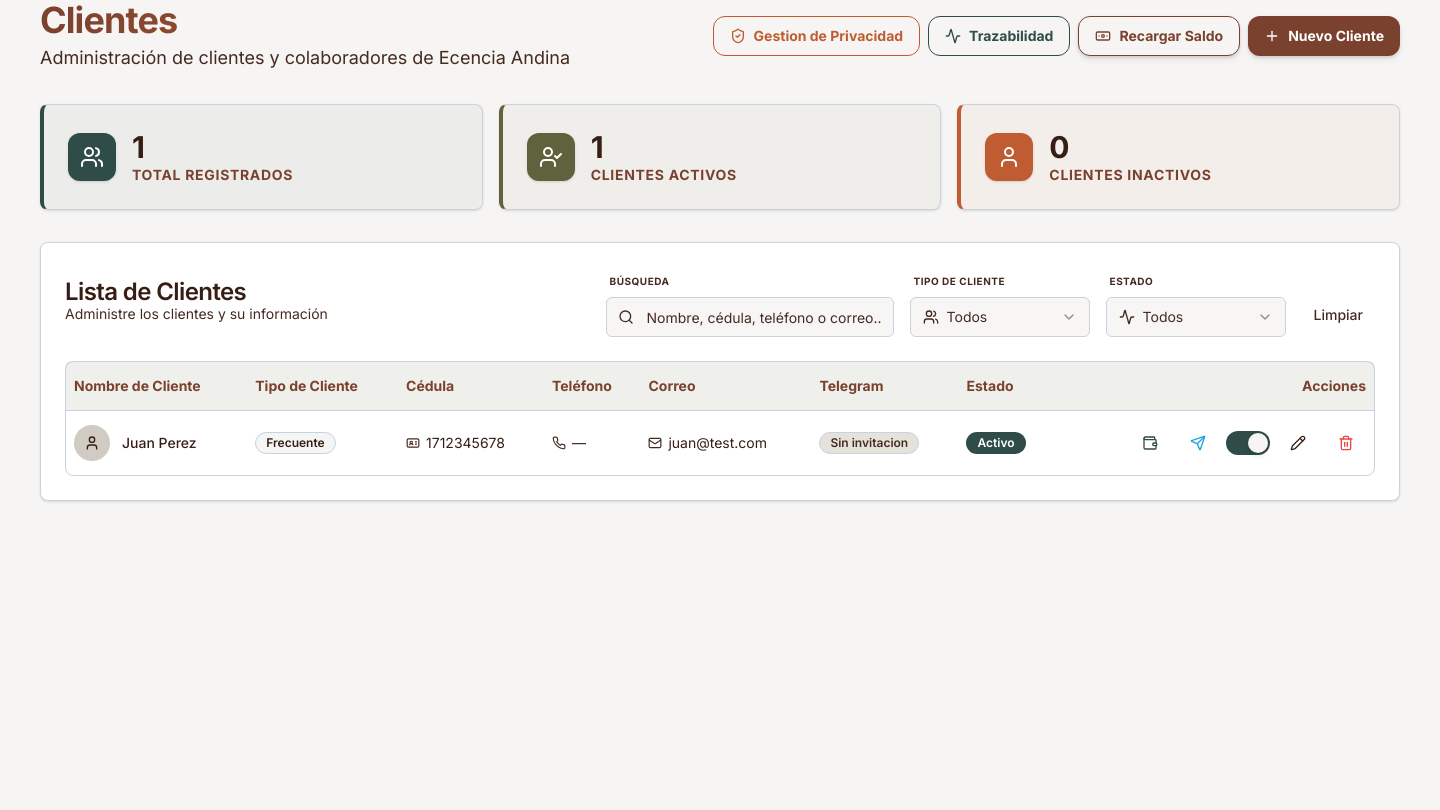
Clientes › permite abrir el dialogo de recarga de saldo
Step 1. Click the button "Recargar Saldo" → (1159, 36), box [1078,16,1240,56]
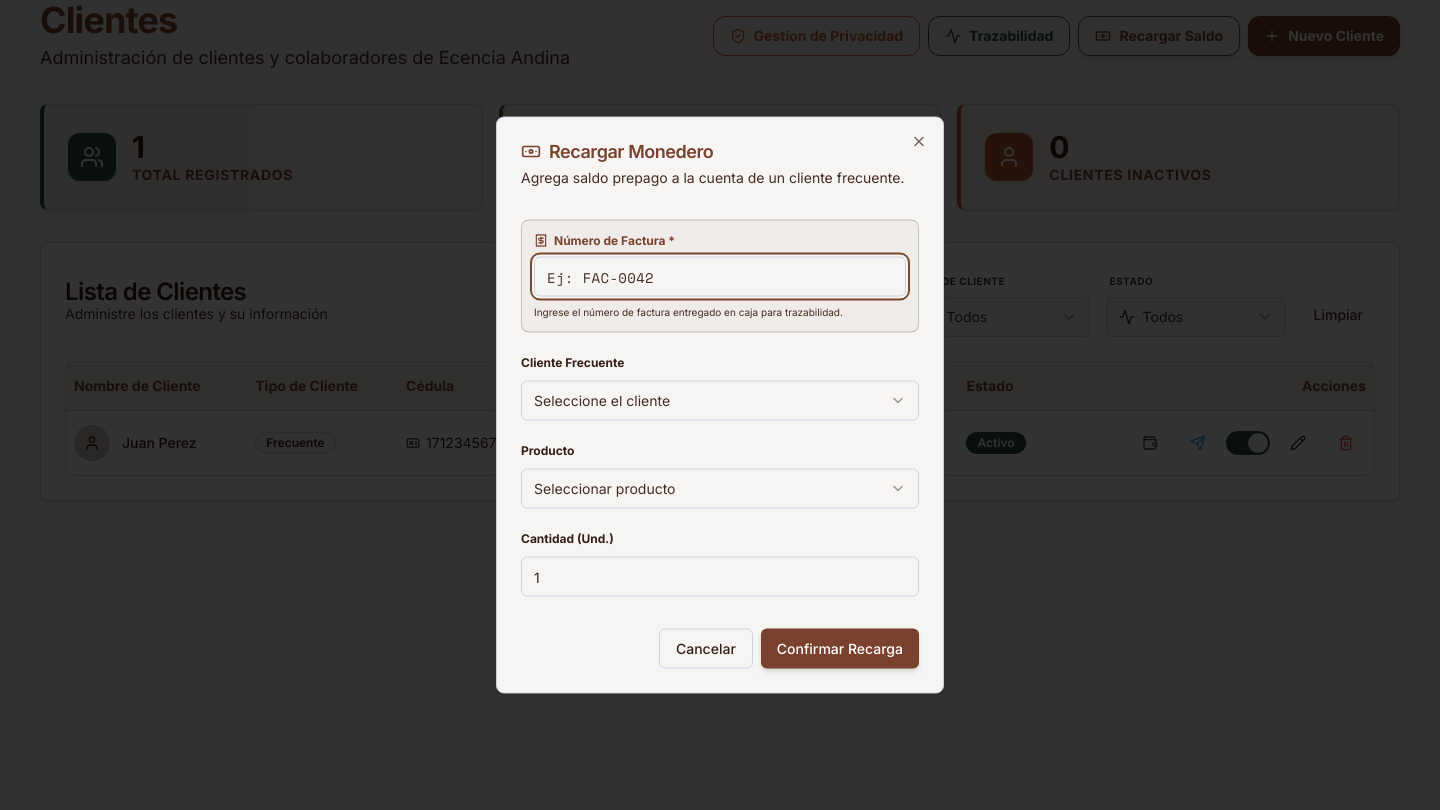
Now the dialog is shown, box [496,116,944,694]
